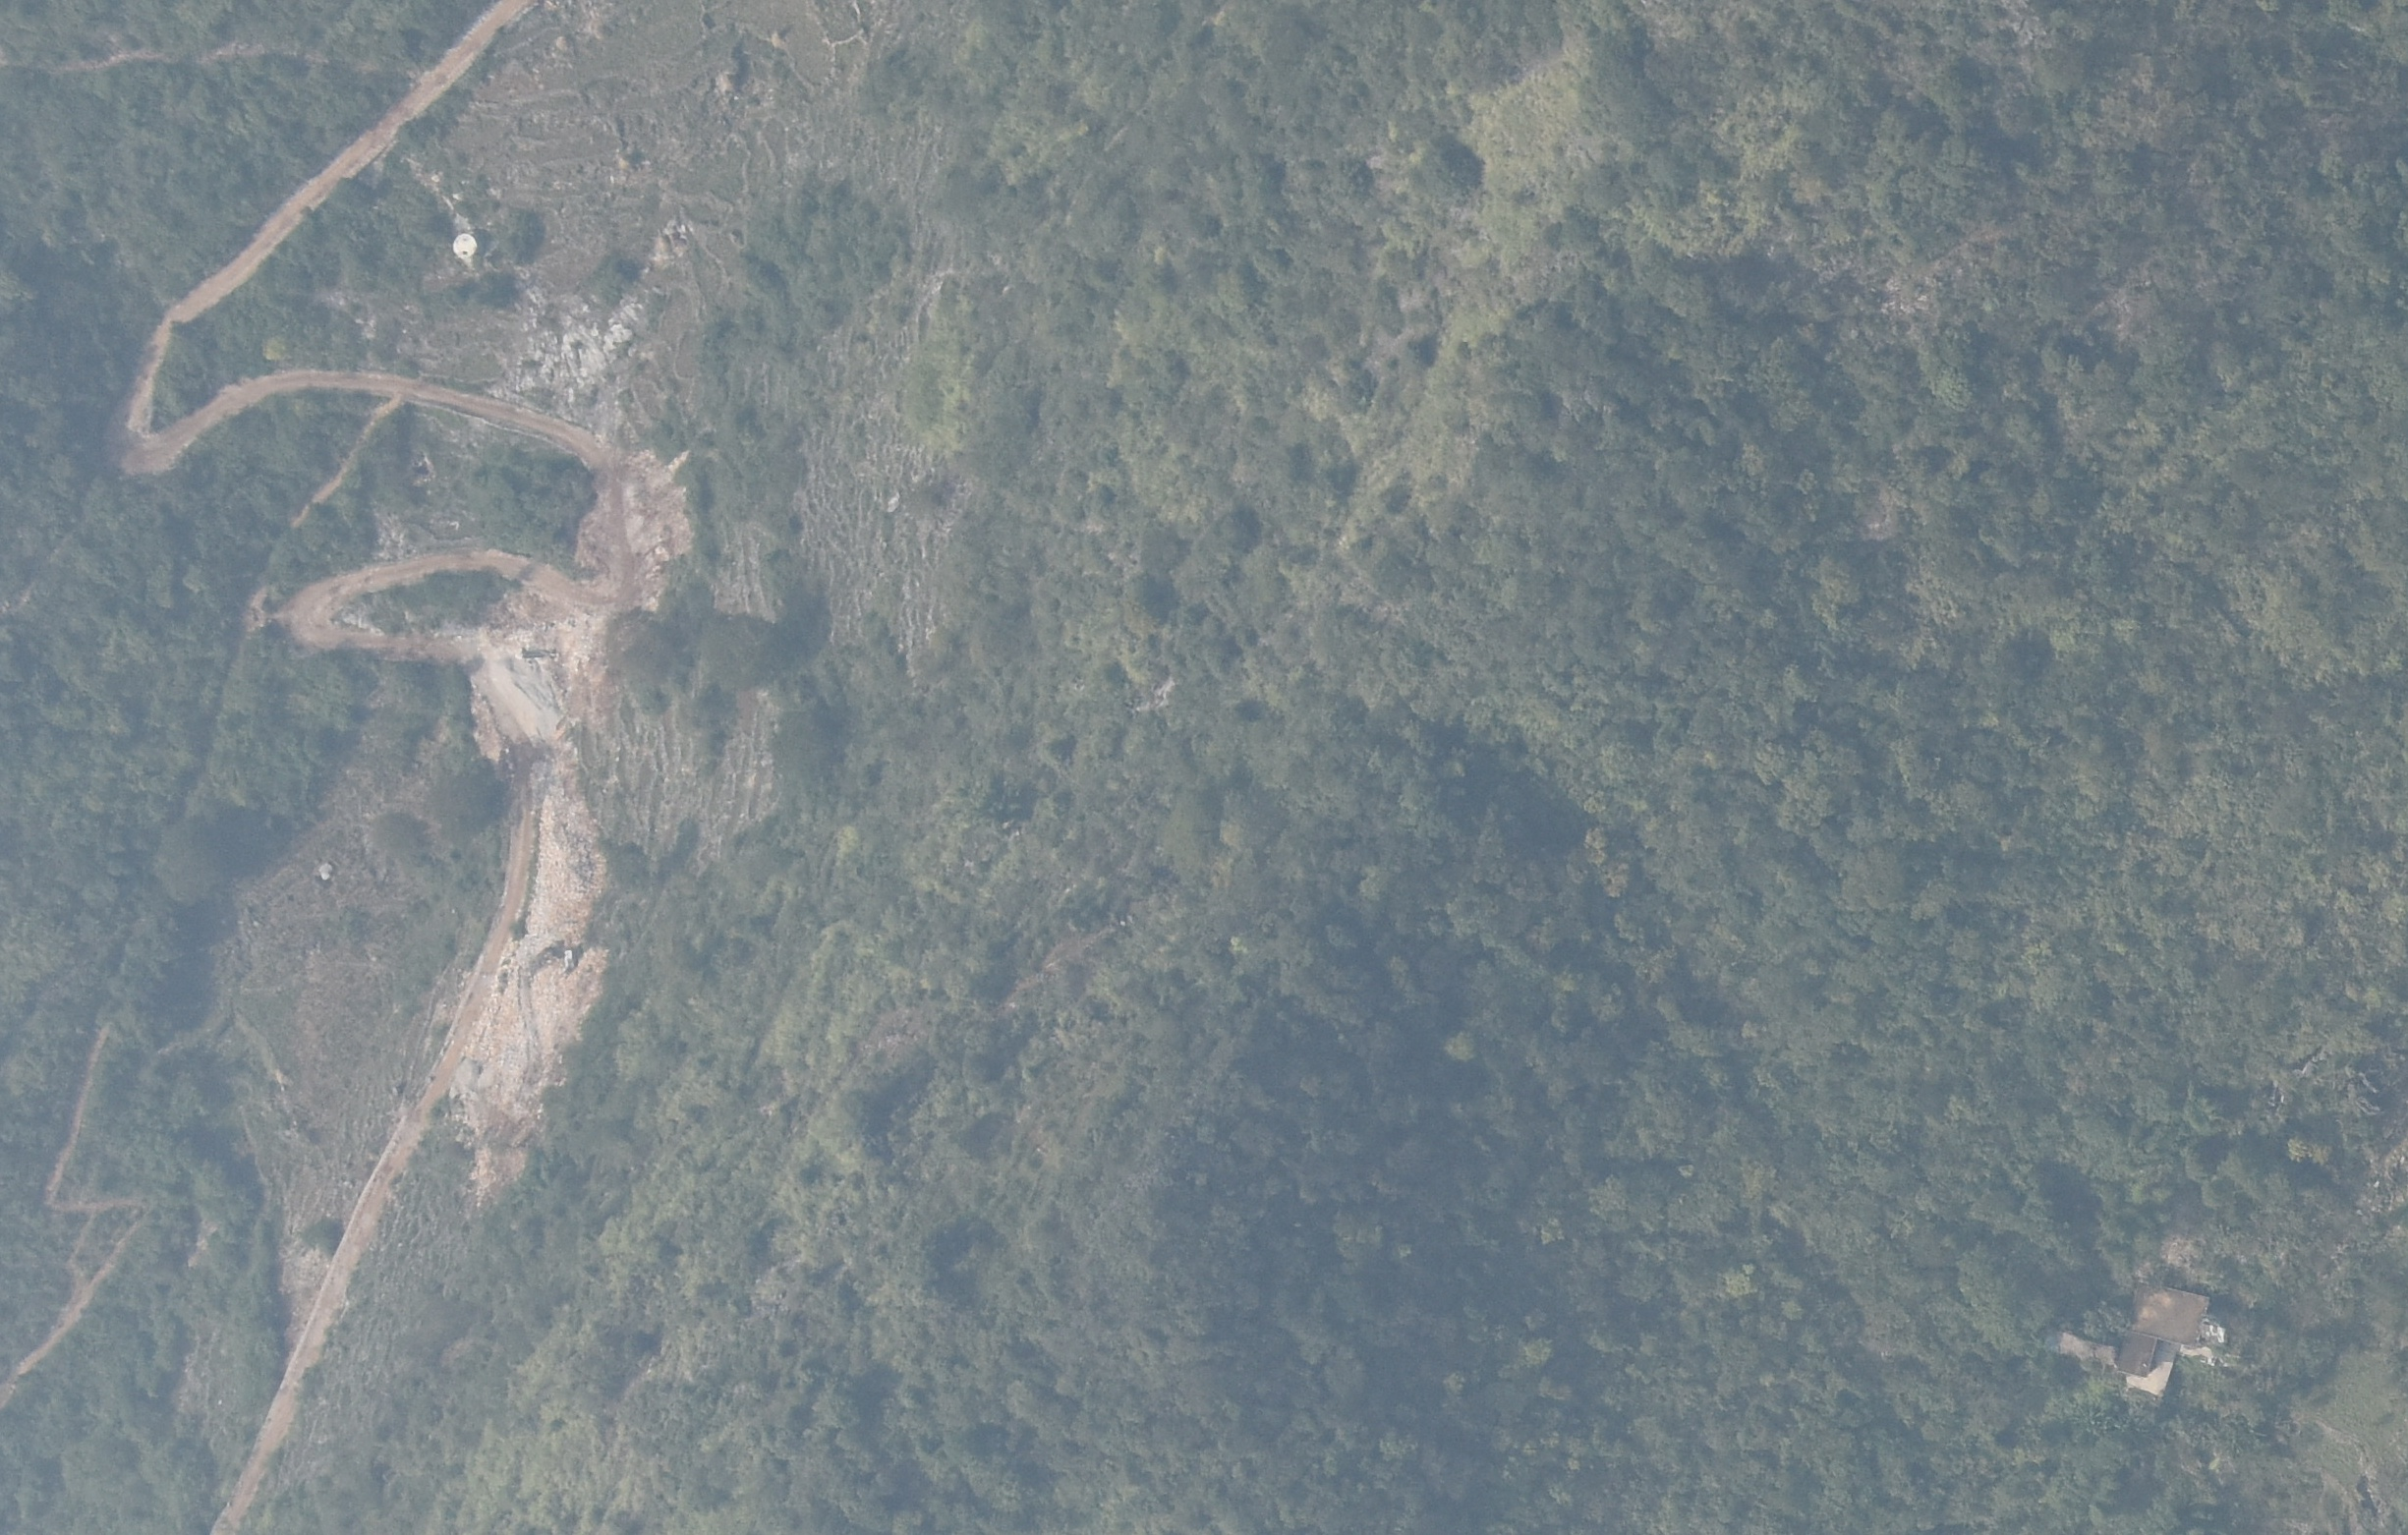building: (2125, 1276, 2213, 1348), (2117, 1331, 2159, 1380)
quarry: (437, 618, 650, 1141)
well: (446, 234, 485, 266)
